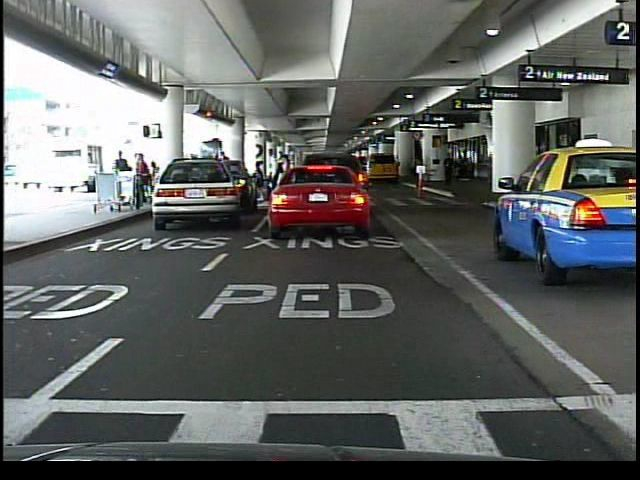person: (267, 147, 283, 209), (218, 149, 235, 201), (112, 148, 128, 203), (255, 159, 274, 204), (341, 151, 358, 199), (442, 152, 456, 188)
